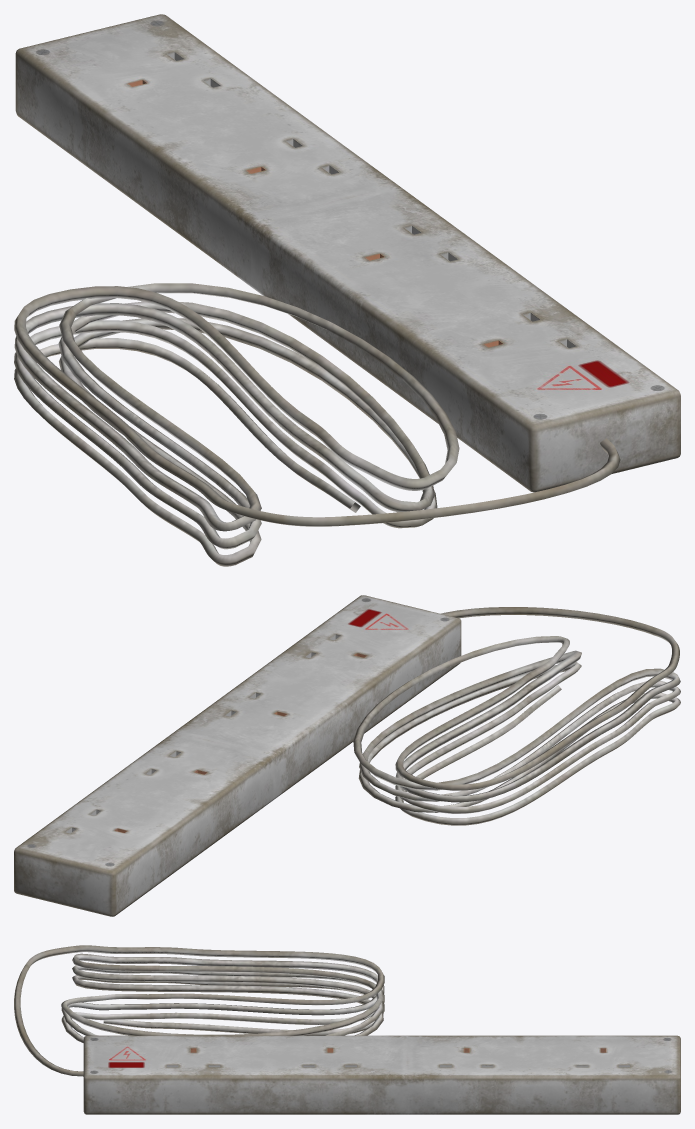
The model's file is goods_cables.gltf.
The picture shows the model from 3 angles, top to bottom: view 1: azimuth 30°, elevation 25°; view 2: azimuth 150°, elevation 25°; view 3: azimuth 270°, elevation 25°; orthographic projection. The views are drawn at different scales.
Visible parts, largest first — view 1: SM_plug_extension.001_1, SM_plug_extension_cable.001_0; view 2: SM_plug_extension.001_1, SM_plug_extension_cable.001_0; view 3: SM_plug_extension.001_1, SM_plug_extension_cable.001_0.
Part boxes in pixels (bbox=[...]): SM_plug_extension.001_1: bbox=[15, 14, 680, 492]; SM_plug_extension_cable.001_0: bbox=[14, 283, 620, 566]; SM_plug_extension.001_1: bbox=[14, 595, 461, 916]; SM_plug_extension_cable.001_0: bbox=[353, 607, 680, 825]; SM_plug_extension.001_1: bbox=[83, 1035, 680, 1114]; SM_plug_extension_cable.001_0: bbox=[14, 945, 384, 1076].
Bounding box in the file's own units: 0.3057 × 0.0482 × 0.6513.
Materials: 1 (1 with a texture image).
